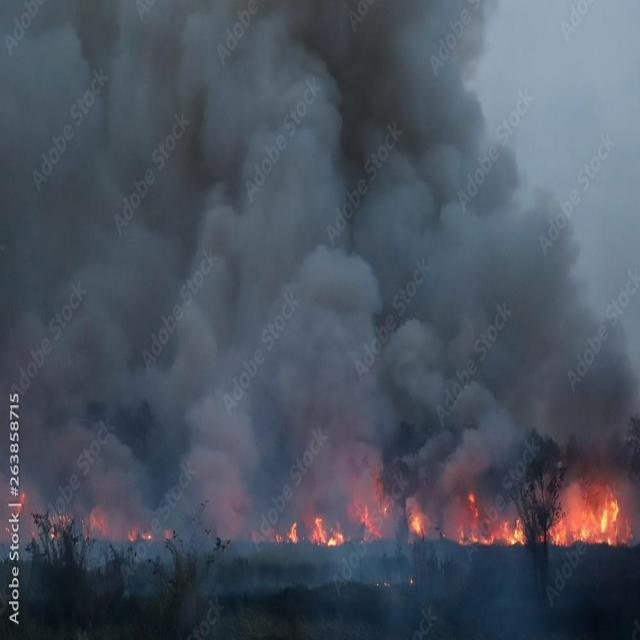Fire: (364, 470, 529, 560), (10, 500, 176, 547), (544, 482, 635, 546), (269, 500, 353, 557), (313, 527, 326, 544), (289, 530, 298, 543)
Smoke: (1, 0, 640, 410)
